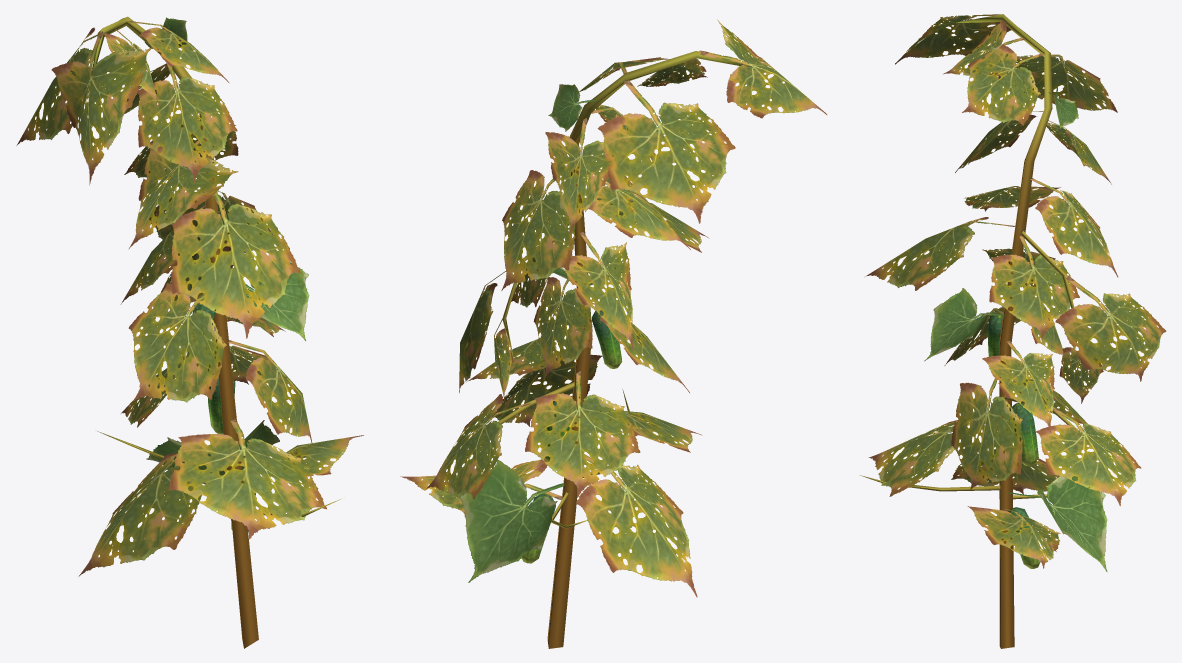
Rendered from plant_cucumber_S4.fbx.
3 renders of one model, left to right at view 1: azimuth 30°, elevation 25°; view 2: azimuth 150°, elevation 25°; view 3: azimuth 270°, elevation 25°, orthographic. The views are drawn at different scales.
Parts seen in each view (by area): view 1: plant_cucumber_S4, plant_cucumber_S4_crop; view 2: plant_cucumber_S4, plant_cucumber_S4_crop; view 3: plant_cucumber_S4, plant_cucumber_S4_crop.
Boxes of the visible parts, x1,y1,x2,y2 form: plant_cucumber_S4: (16,16,363,648); plant_cucumber_S4_crop: (187,299,255,531); plant_cucumber_S4: (400,19,827,648); plant_cucumber_S4_crop: (521,310,622,563); plant_cucumber_S4: (860,14,1166,648); plant_cucumber_S4_crop: (988,315,1040,568).
Size of the model in its own units: 54.06 by 93.76 by 45.5.
